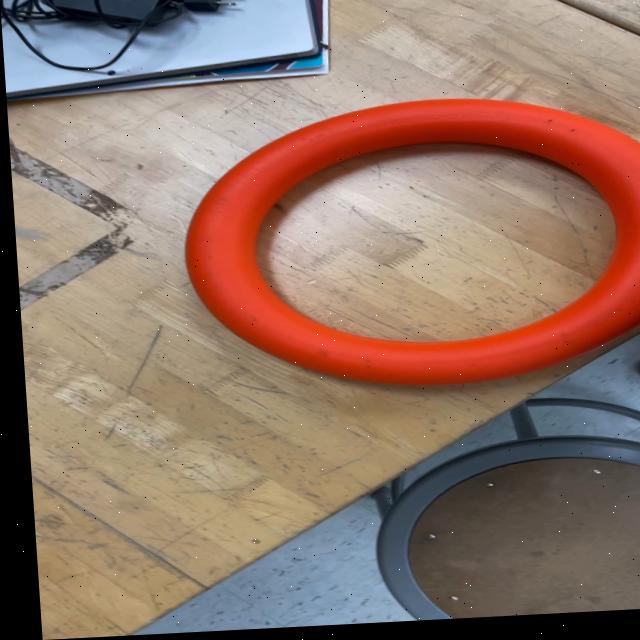note: (168, 93, 640, 402)
